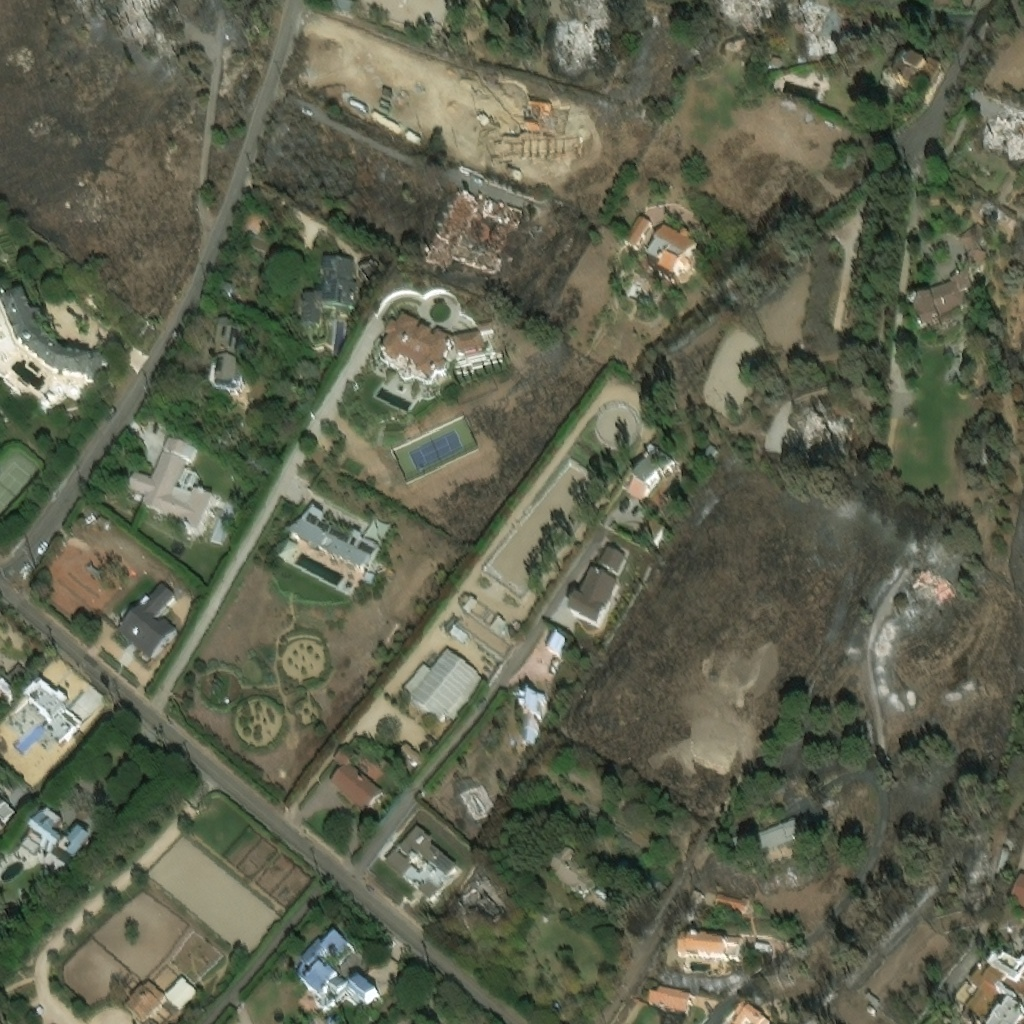0 no-damage: (0, 650, 106, 789), (124, 432, 235, 543), (908, 221, 1000, 333), (0, 289, 102, 382), (377, 310, 497, 384), (283, 501, 391, 571), (295, 932, 378, 1014), (532, 831, 615, 911), (398, 642, 483, 720), (21, 808, 92, 886), (562, 539, 627, 623), (112, 574, 176, 659), (384, 824, 460, 891), (950, 958, 1023, 1023), (326, 735, 385, 814), (332, 0, 444, 36), (299, 250, 352, 321), (877, 47, 941, 97), (731, 818, 802, 863), (621, 441, 673, 497), (646, 223, 696, 280), (208, 315, 245, 390), (446, 879, 503, 921), (676, 927, 742, 961), (613, 855, 665, 898), (123, 979, 171, 1023), (461, 593, 505, 631), (516, 685, 543, 739), (986, 949, 1023, 988), (0, 659, 30, 702), (645, 982, 689, 1010), (163, 975, 197, 1010), (621, 213, 652, 249), (731, 997, 769, 1023), (712, 891, 748, 915), (1005, 873, 1023, 920), (399, 741, 425, 765), (0, 799, 15, 837), (993, 1004, 1023, 1023), (413, 726, 437, 748), (542, 626, 563, 648), (447, 620, 465, 637), (533, 622, 546, 640), (864, 991, 879, 1006), (690, 888, 702, 902), (704, 442, 715, 455)
2 major-damage: (519, 98, 551, 128)
3 destroyed: (423, 187, 522, 275), (546, 0, 614, 71), (75, 0, 173, 37), (793, 394, 845, 460), (979, 98, 1023, 160), (791, 0, 841, 34), (913, 565, 950, 596), (721, 0, 772, 20), (808, 35, 836, 51), (974, 844, 988, 876)
